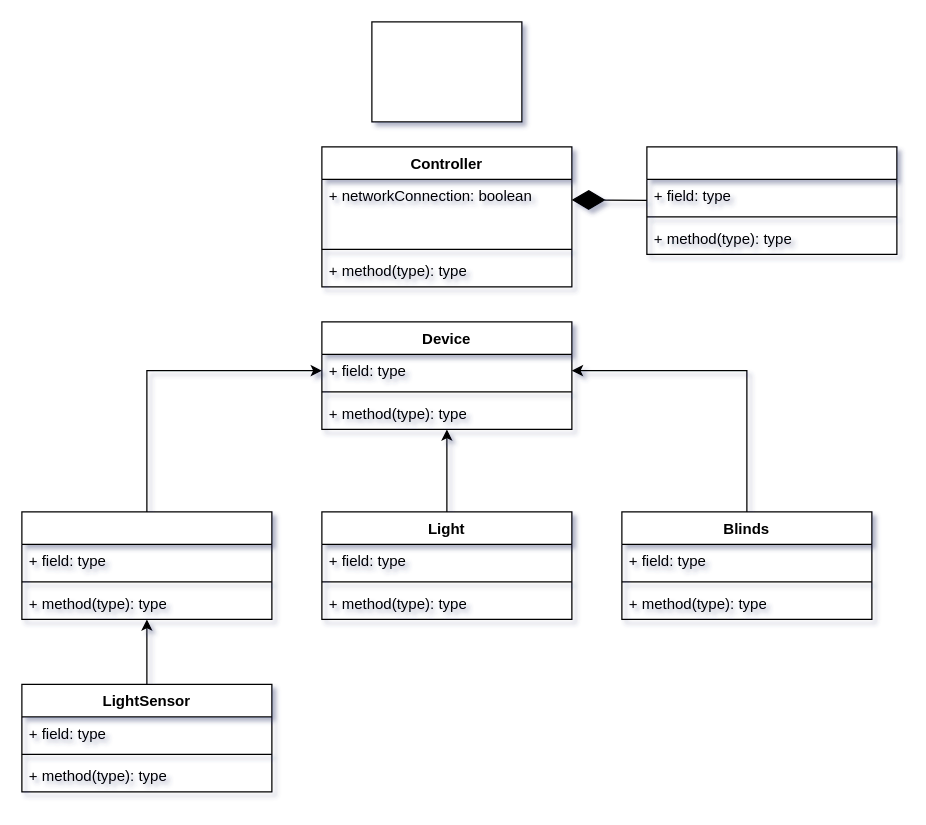
This 926x825 diagram has some shape labels left out. The box of each missing label's shape, as (x1, y1, x2, y2) in pixels:
Room: (646, 146, 897, 254)
Sensor: (21, 511, 272, 619)
«interface» Smart Home: (371, 21, 522, 122)
